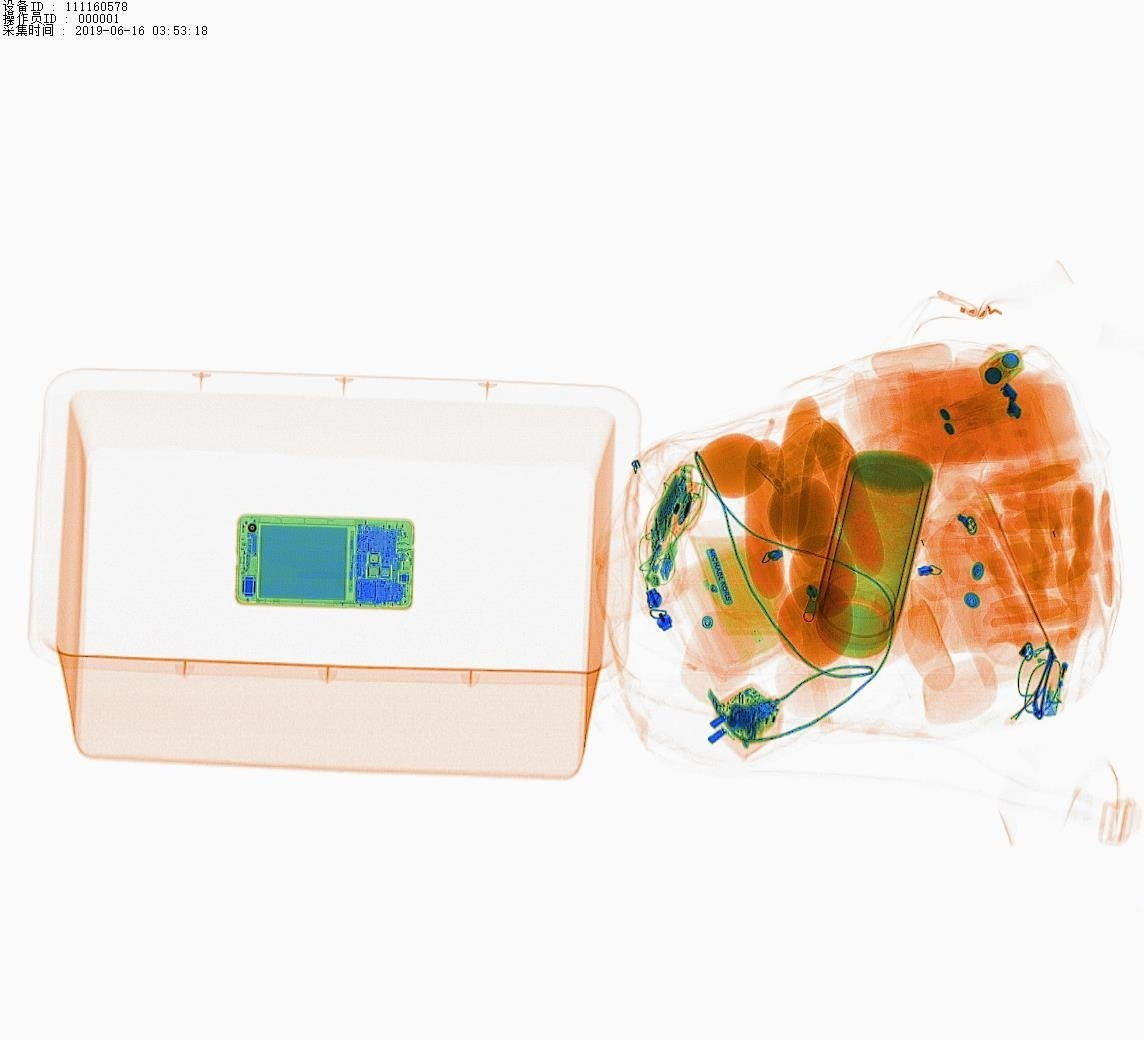NonmetallicFire: (1023, 605, 1104, 724)
